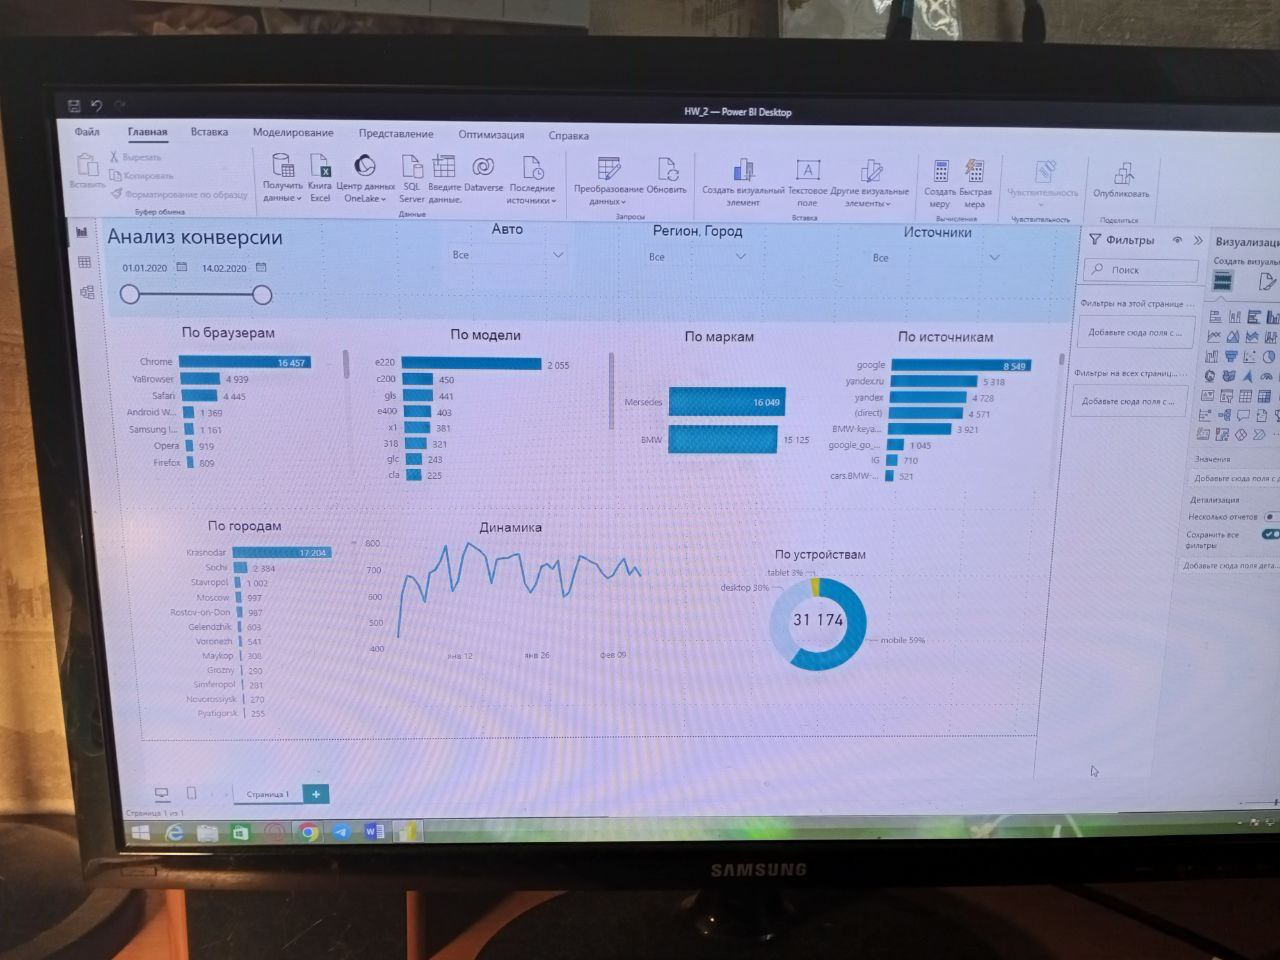

What the dashboard file says about the page in this screenshot:
{"tool":"powerbi","page":{"name":"Страница 1","canvas":[1280,720],"ordinal":0},"visuals":[{"type":"textbox","box":[8,0,1272,128],"z":0},{"type":"slicer","title":"Авто","fields":{"Values":["Маркетинговые данные.Марка","Маркетинговые данные.Модель"]},"box":[440,0,176,88],"z":1000},{"type":"card","fields":{"Values":["Sum(Маркетинговые данные.Конверсия)"]},"box":[880,496,152,96],"z":2000},{"type":"barChart","title":"По городам","fields":{"Category":["Маркетинговые данные.City"],"Y":["Sum(Маркетинговые данные.Конверсия)"]},"box":[9.6,397.6,308.5,304.7],"z":3000},{"type":"donutChart","title":"По устройствам","fields":{"Y":["Sum(Маркетинговые данные.Конверсия)"],"Category":["Маркетинговые данные.Device Category"]},"box":[784,440,344,208],"z":4000},{"type":"lineChart","title":"Динамика","fields":{"Y":["Sum(Маркетинговые данные.Конверсия)"],"Category":["Маркетинговые данные.Date"]},"box":[320,400,408,216],"z":5000},{"type":"slicer","title":"Регион, Город","fields":{"Values":["Маркетинговые данные.Region","Маркетинговые данные.City"]},"box":[696,0,160,88],"z":6000},{"type":"slicer","title":"Источники","fields":{"Values":["Маркетинговые данные.Source"]},"box":[992,0,200,88],"z":7000},{"type":"slicer","fields":{"Values":["Маркетинговые данные.Date"]},"box":[8,40,232,88],"z":8000},{"type":"barChart","title":"По браузерам","fields":{"Y":["Sum(Маркетинговые данные.Конверсия)"],"Category":["Маркетинговые данные.Browser"]},"box":[0,136,320,208],"z":9000},{"type":"barChart","title":"По модели","fields":{"Y":["Sum(Маркетинговые данные.Конверсия)"],"Category":["Маркетинговые данные.Модель"]},"box":[320,136,352,224],"z":9001},{"type":"barChart","title":"По маркам","fields":{"Y":["Sum(Маркетинговые данные.Конверсия)"],"Category":["Маркетинговые данные.Марка"]},"box":[672,136,272,224],"z":9002},{"type":"barChart","title":"По источникам","fields":{"Y":["Sum(Маркетинговые данные.Конверсия)"],"Category":["Маркетинговые данные.Source"]},"box":[944,136,336,224],"z":9003}]}

Visuals, with their boxes in screenshot pixels (x1, y1, x2, y2):
textbox: <bbox>104, 0, 1279, 115</bbox>
"Авто" slicer: <bbox>515, 0, 683, 77</bbox>
card - Sum(Маркетинговые данные.Конверсия): <bbox>934, 465, 1078, 556</bbox>
"По городам" barChart: <bbox>106, 372, 399, 661</bbox>
"По устройствам" donutChart: <bbox>842, 412, 1170, 610</bbox>
"Динамика" lineChart: <bbox>401, 374, 789, 579</bbox>
"Регион, Город" slicer: <bbox>759, 0, 911, 77</bbox>
"Источники" slicer: <bbox>1040, 0, 1231, 77</bbox>
slicer - Маркетинговые данные.Date: <bbox>104, 31, 325, 115</bbox>
"По браузерам" barChart: <bbox>97, 123, 401, 321</bbox>
"По модели" barChart: <bbox>401, 123, 736, 336</bbox>
"По маркам" barChart: <bbox>736, 123, 995, 336</bbox>
"По источникам" barChart: <bbox>995, 123, 1279, 336</bbox>
